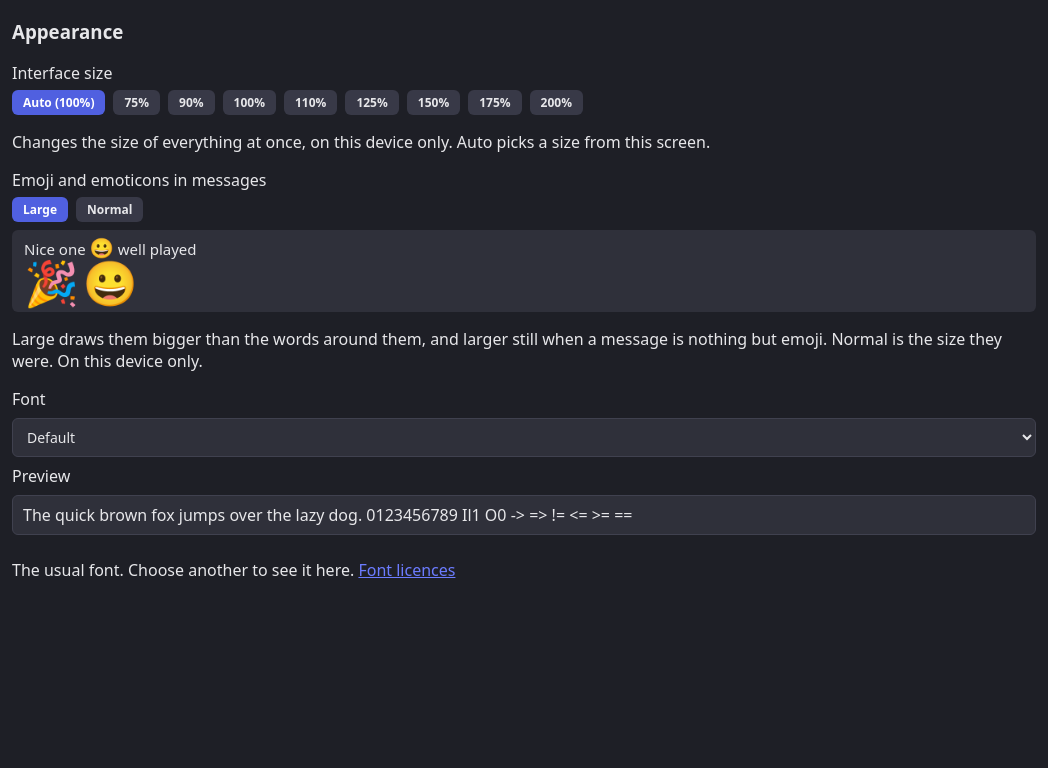
Test: Settings -> Appearance -> Font › offers the ligatures choice only for fonts that have ligatures
Select "IBM Plex Mono" in the dropdown labelled "Font" at (524, 438), box [12,418,1036,457]
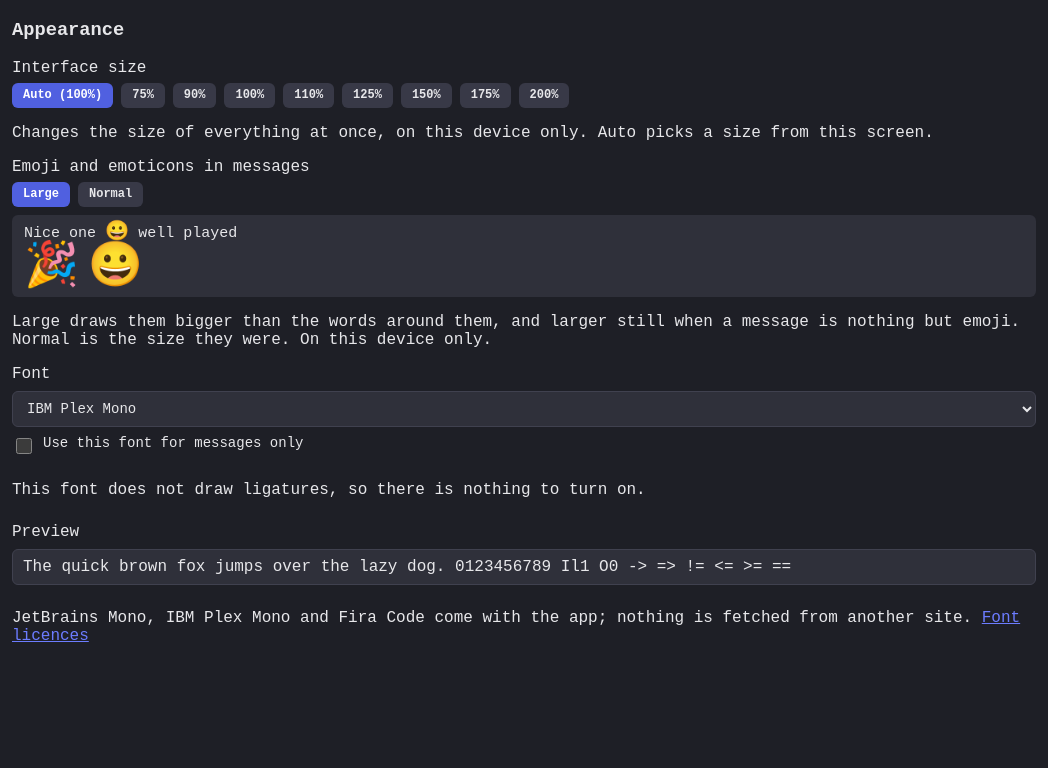
Select "Fira Code" in the dropdown labelled "Font" at (524, 409), box [12,391,1036,427]
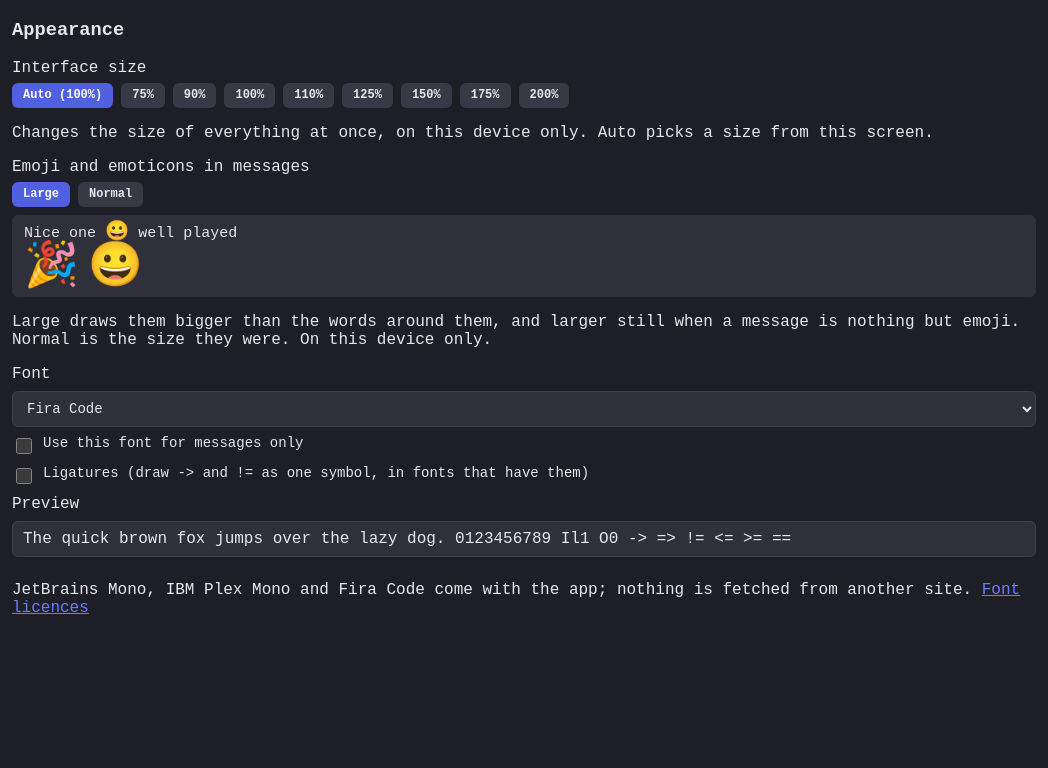
Now the checkbox labelled "Ligatures" is shown, box [16,468,32,484]
